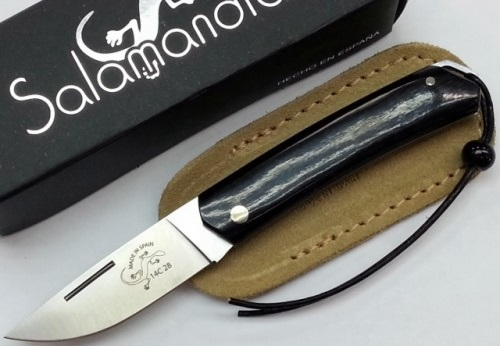knife: (1, 186, 238, 346)
